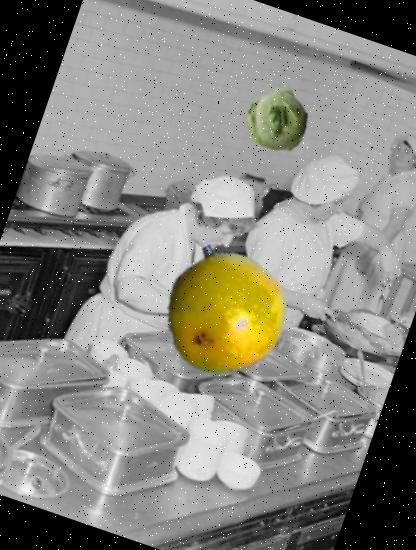Kohlrabi: (234, 76, 320, 161)
Maracuja: (142, 228, 305, 392)
